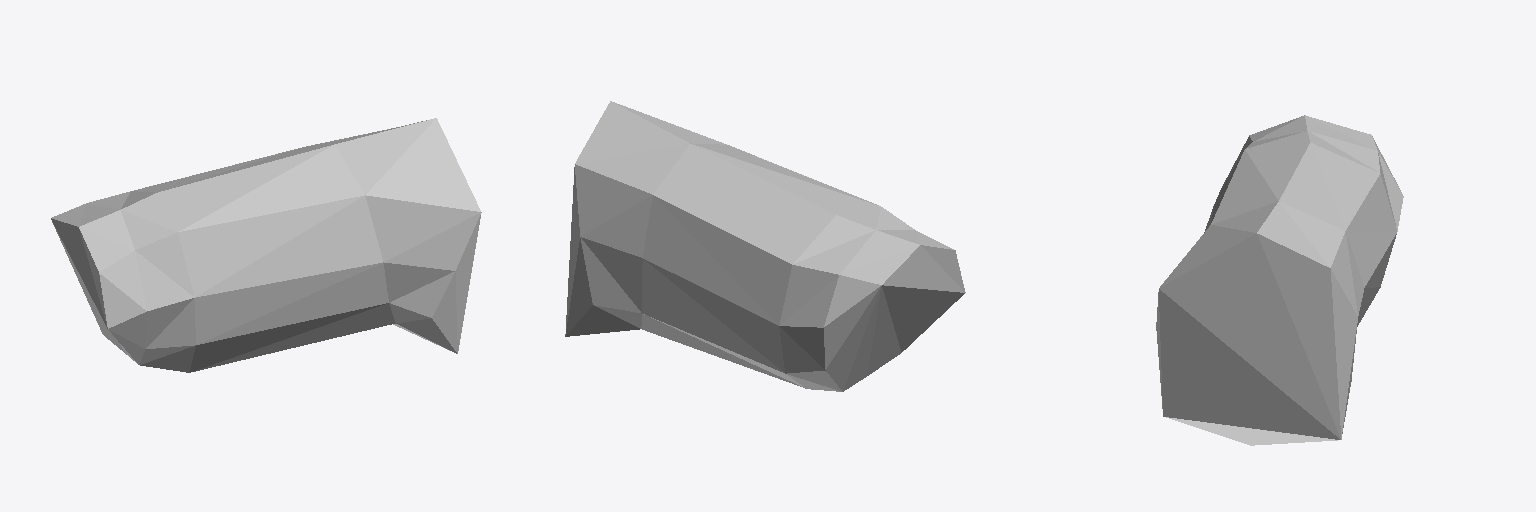
Rendered from mid1.obj.
3 views of the same model, side by side, from view 1: azimuth 30°, elevation 25°; view 2: azimuth 150°, elevation 25°; view 3: azimuth 270°, elevation 25° (orthographic).
Size of the model in its own units: 42.31 by 24.64 by 26.24.